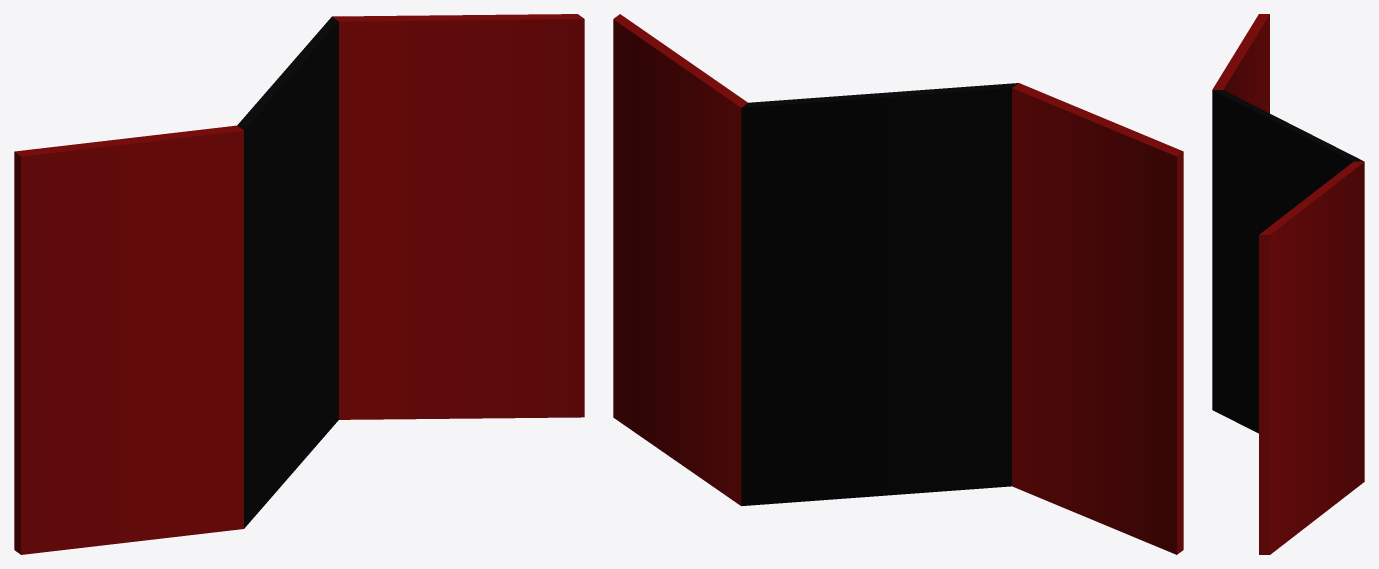
The model's file is wall divider.fbx.
3 views of the same model, side by side, from view 1: azimuth 30°, elevation 25°; view 2: azimuth 150°, elevation 25°; view 3: azimuth 270°, elevation 25° (orthographic). The views are drawn at different scales.
Parts seen in each view (by area): view 1: pCube1; view 2: pCube1; view 3: pCube1.
Part boxes in pixels (x1,y1,x2,y2): pCube1: (14, 14, 584, 554); pCube1: (613, 14, 1183, 554); pCube1: (1212, 14, 1364, 554).
Bounding box in the file's own units: 5.25 × 3.55 × 1.53.
